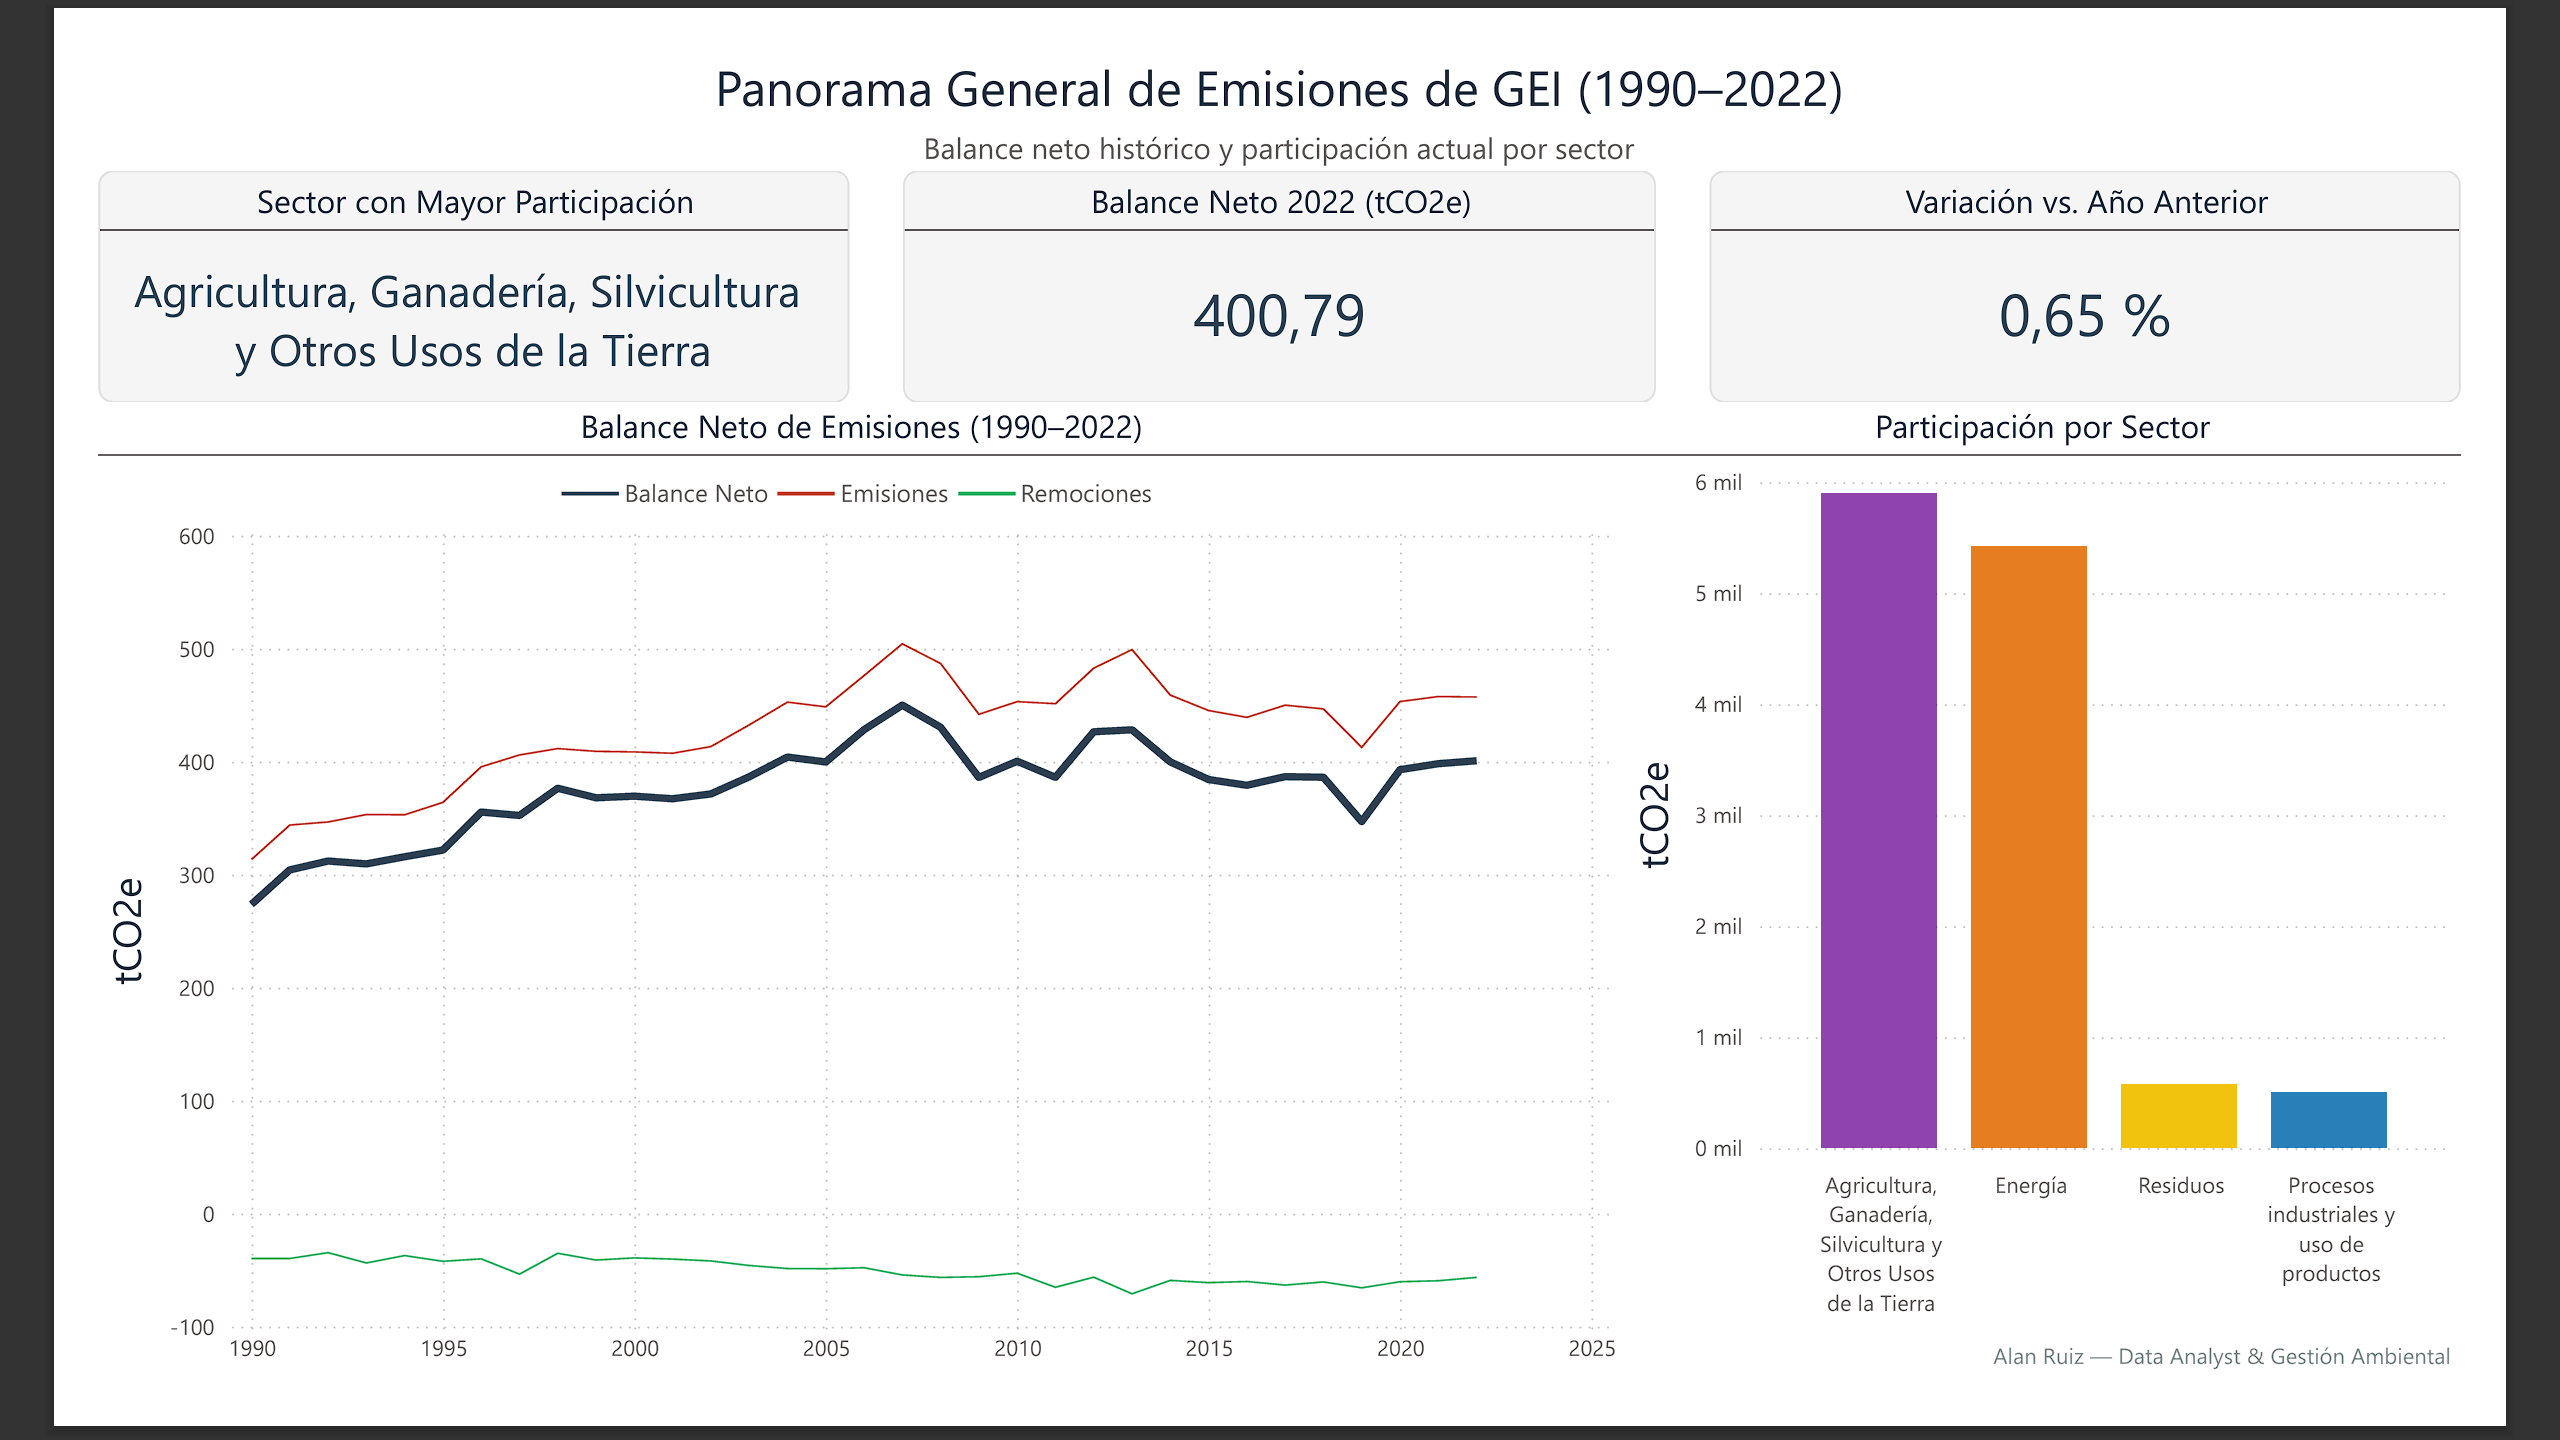

The dashboard page shown, as its layout file describes it:
{"tool":"powerbi","page":{"name":"Panorama General","canvas":[1280,720],"ordinal":0},"visuals":[{"type":"card","title":"Balance Neto 2022 (tCO2e)","fields":{"Values":["5- Balance_anual.Balance Neto Actual"]},"box":[436.5,64.1,407,126.3],"z":0},{"type":"card","title":"Variación vs. Año Anterior","fields":{"Values":["5- Balance_anual.Variacion Interanual %"]},"box":[873,64.1,407,126.3],"z":1000},{"type":"card","title":"Sector con Mayor Participación","fields":{"Values":["9- Totales_sector.Sector Lider"]},"box":[0,64.1,407,126.3],"z":2000},{"type":"lineChart","title":"Balance Neto de Emisiones (1990–2022)","fields":{"Category":["5- Balance_anual.anio"],"Y":["Sum(5- Balance_anual.balance_neto)","Sum(5- Balance_anual.emisiones)","Sum(5- Balance_anual.remociones)"]},"box":[0,190.4,826.5,529.4],"z":3000},{"type":"columnChart","title":"Participación por Sector","fields":{"Category":["9- Totales_sector.sector"],"Y":["Sum(9- Totales_sector.total_tco2e)"]},"box":[826.5,190.4,453.5,501.3],"z":4000},{"type":"textbox","title":"Panorama General de Emisiones de GEI (1990–2022)","box":[0,0,1280,64.1],"z":5000},{"type":"textbox","box":[1020.2,691.7,259.8,28.1],"z":6000}]}

Visuals, with their boxes in screenshot pixels (x1, y1, x2, y2), scaled from the page's 1280x720 canvas onto the 2560x1440 screenshot:
"Balance Neto 2022 (tCO2e)" card: {"x1": 873, "y1": 128, "x2": 1687, "y2": 381}
"Variación vs. Año Anterior" card: {"x1": 1746, "y1": 128, "x2": 2559, "y2": 381}
"Sector con Mayor Participación" card: {"x1": 0, "y1": 128, "x2": 814, "y2": 381}
"Balance Neto de Emisiones (1990–2022)" lineChart: {"x1": 0, "y1": 381, "x2": 1653, "y2": 1439}
"Participación por Sector" columnChart: {"x1": 1653, "y1": 381, "x2": 2559, "y2": 1383}
"Panorama General de Emisiones de GEI (1990–2022)" textbox: {"x1": 0, "y1": 0, "x2": 2559, "y2": 128}
textbox: {"x1": 2040, "y1": 1383, "x2": 2559, "y2": 1439}
